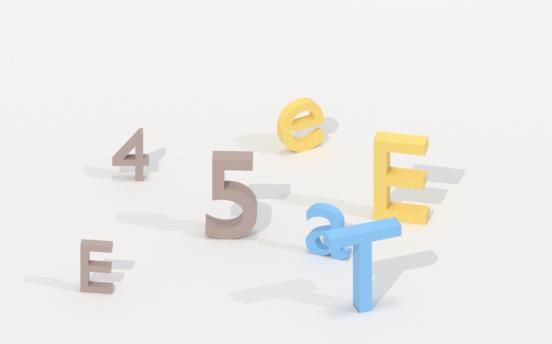4: (109, 124, 154, 183)
5: (200, 146, 264, 243)
E-hoa: (369, 127, 432, 230), (76, 236, 122, 295)
a: (305, 199, 353, 263)
e: (274, 92, 329, 156)
t-hoa: (325, 216, 406, 314)
